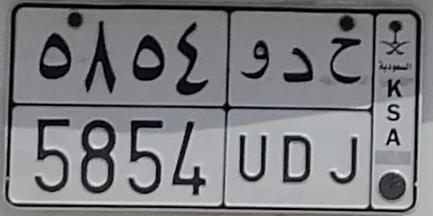4: (172, 21, 210, 196)
5: (127, 32, 166, 196), (34, 31, 70, 194)
8: (80, 19, 116, 194)
D: (281, 46, 316, 185)
J: (328, 35, 362, 184)
U: (238, 39, 271, 184)
